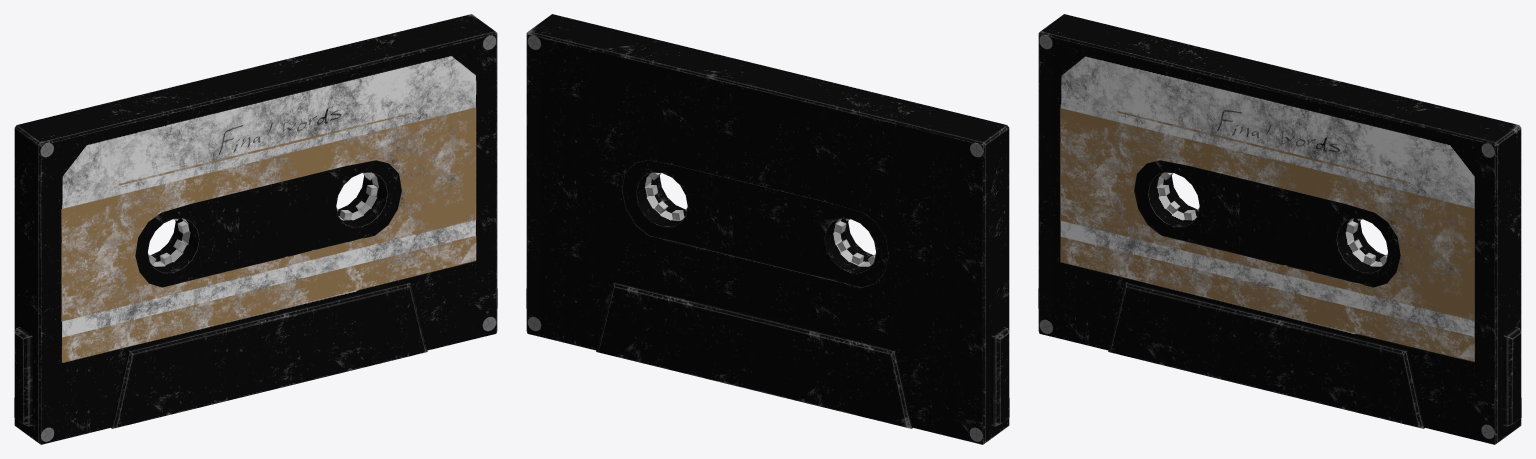
Rendered from music_tape.glb.
3 views of the same model, side by side, from view 1: azimuth 30°, elevation 25°; view 2: azimuth 150°, elevation 25°; view 3: azimuth 330°, elevation 25° (orthographic).
Parts seen in each view (by area): view 1: Box001_Material #31_0; view 2: Box001_Material #31_0; view 3: Box001_Material #31_0.
Part boxes in pixels (x1,y1,x2,y2): Box001_Material #31_0: (14,14,497,444); Box001_Material #31_0: (526,14,1009,444); Box001_Material #31_0: (1038,14,1521,444).
Bounding box in the file's own units: 105 × 64.09 × 11.86.
1 material, 1 textured.
